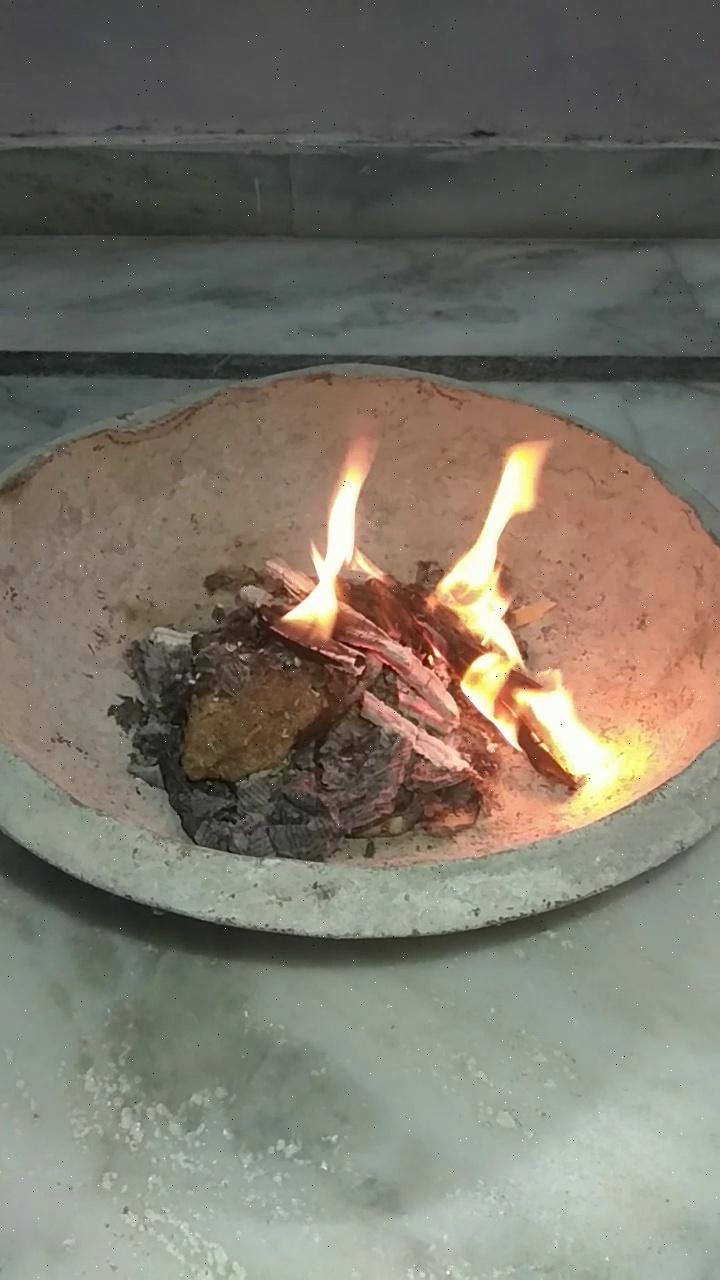fire: (425, 420, 547, 660), (431, 647, 625, 790), (286, 427, 375, 631)
